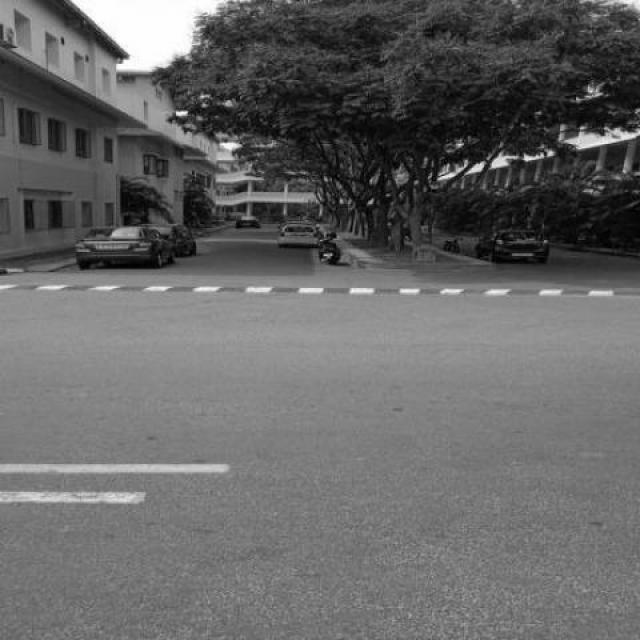Speed Bump: (0, 280, 639, 300)
